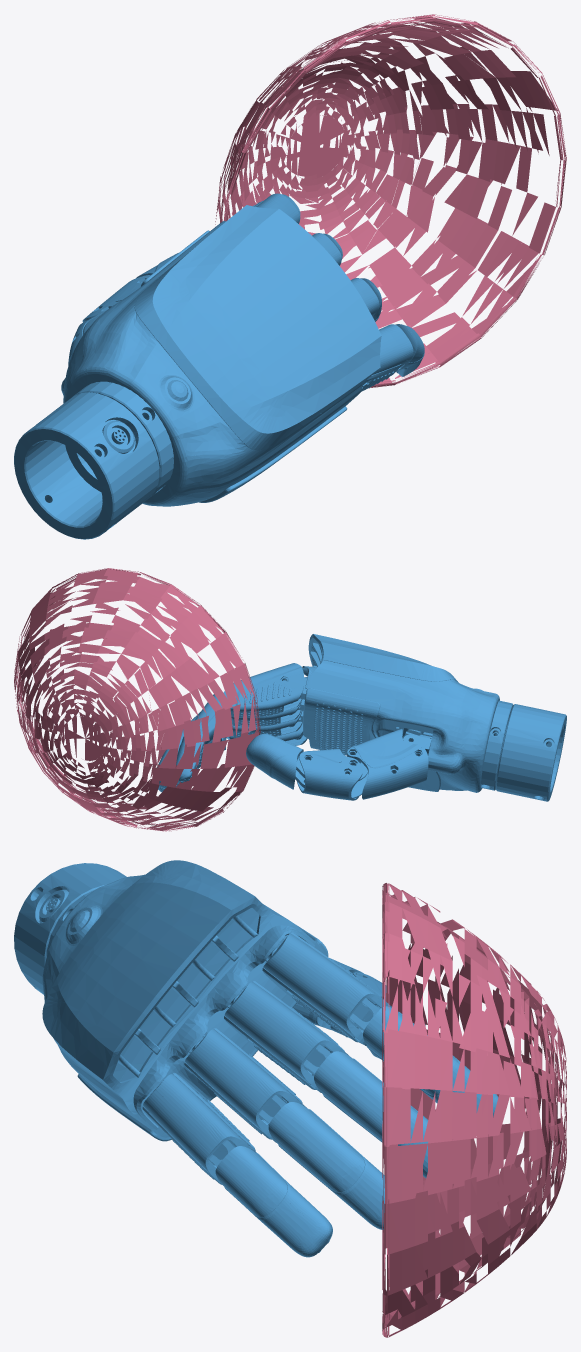
3 views of the same model, one above another, from view 1: azimuth 30°, elevation 25°; view 2: azimuth 150°, elevation 25°; view 3: azimuth 270°, elevation 25° (orthographic). The views are drawn at different scales.
Visible parts, largest first — view 1: 6; view 2: 6; view 3: 6.
Boxes of the visible parts, x1,y1,x2,y2 form: 6: (14, 14, 566, 539); 6: (14, 568, 566, 831); 6: (14, 860, 566, 1337).
Size of the model in its own units: 0.299 by 0.1584 by 0.1917.
